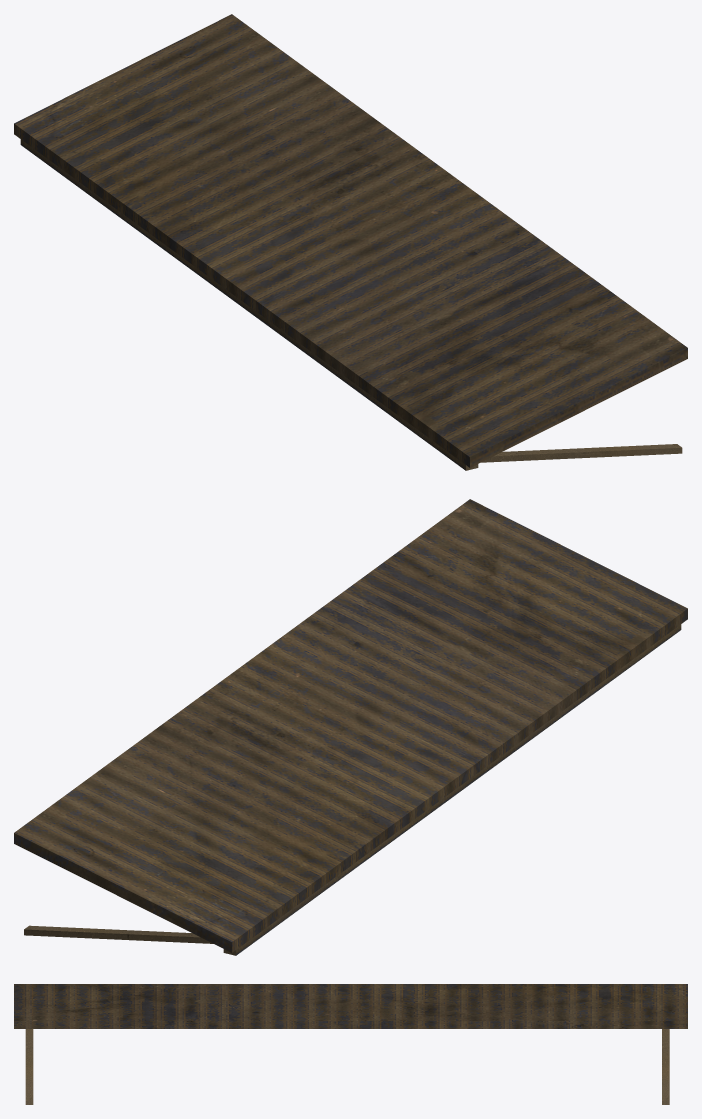
The model's file is CP_Canopy_01.fbx.
The picture shows the model from 3 angles, top to bottom: view 1: azimuth 30°, elevation 25°; view 2: azimuth 150°, elevation 25°; view 3: azimuth 270°, elevation 25°; orthographic projection. The views are drawn at different scales.
Visible parts, largest first — view 1: CP_Canopy_01; view 2: CP_Canopy_01; view 3: CP_Canopy_01.
Boxes of the visible parts, x1,y1,x2,y2 form: CP_Canopy_01: (14, 14, 687, 470); CP_Canopy_01: (14, 499, 687, 955); CP_Canopy_01: (14, 984, 687, 1104).
Bounding box in the file's own units: 102 × 49.78 × 367.
